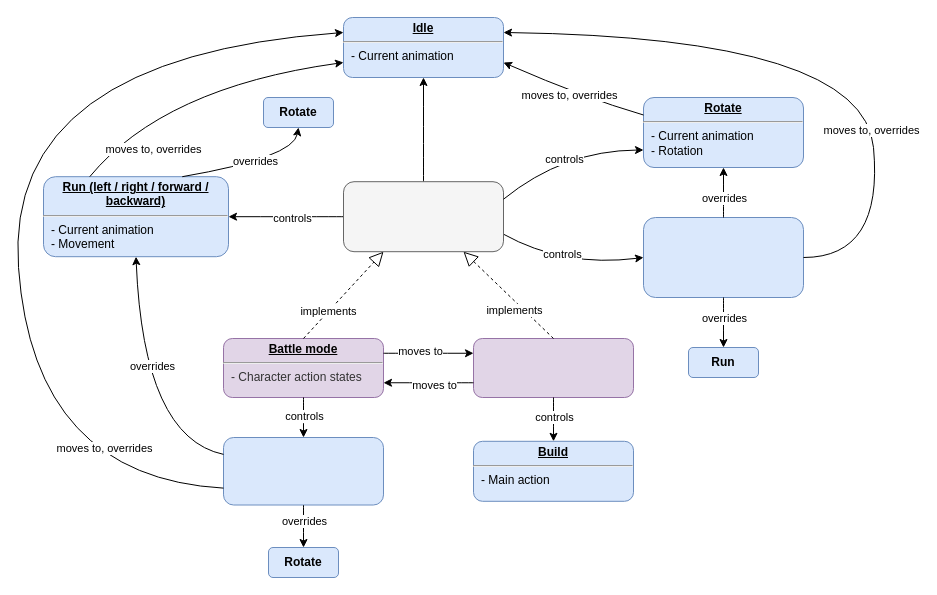
This 937x595 diagram has some shape labels left out. The centre of each missing label's shape, as x and y in pixels:
<<interface>> Action mode - Character action states: pixel 423 216
Build mode - Character action states: pixel 553 368
Jump - Current animation - Movement - Main action: pixel 723 257
Shoot - Current animation - Movement: pixel 303 470
